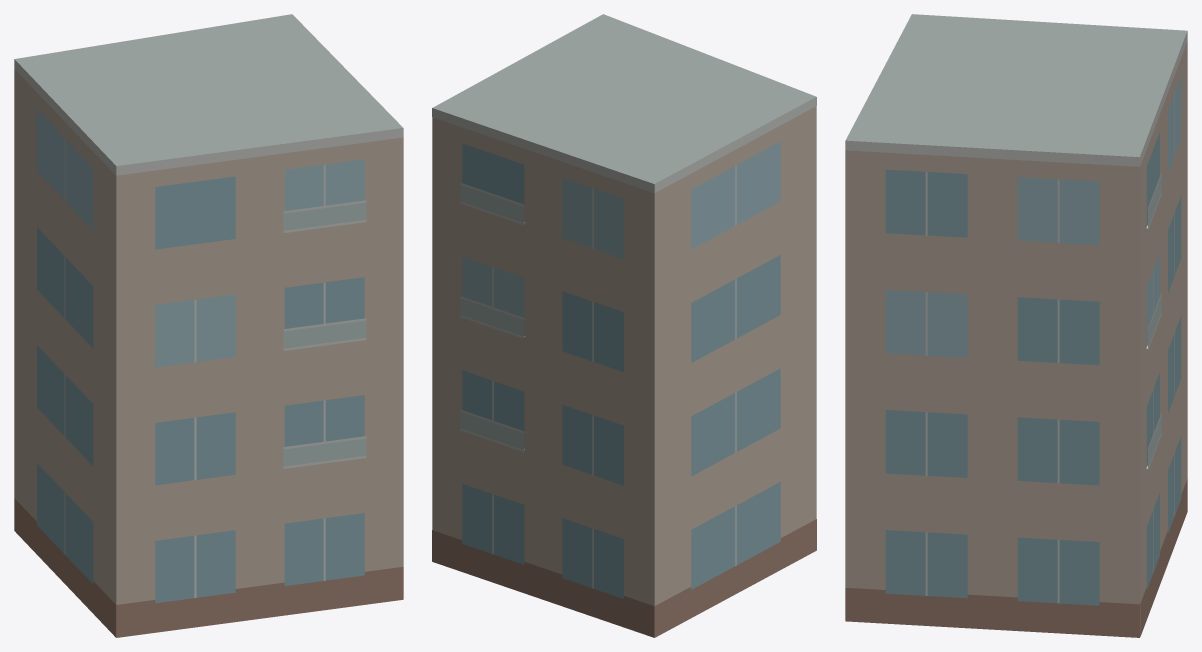
The model's file is survey-upis-32756281.glb.
The picture shows the model from 3 angles, left to right: view 1: azimuth 30°, elevation 25°; view 2: azimuth 150°, elevation 25°; view 3: azimuth 270°, elevation 25°; orthographic projection. The views are drawn at different scales.
Parts seen in each view (by area): view 1: survey-upis-32756281.tmp; view 2: survey-upis-32756281.tmp; view 3: survey-upis-32756281.tmp.
Boxes of the visible parts, x1=… form: survey-upis-32756281.tmp: x1=14, y1=14, x2=403, y2=637; survey-upis-32756281.tmp: x1=432, y1=14, x2=816, y2=637; survey-upis-32756281.tmp: x1=845, y1=14, x2=1187, y2=637.
Bounding box in the file's own units: 7.74 × 12.1 × 7.82.
